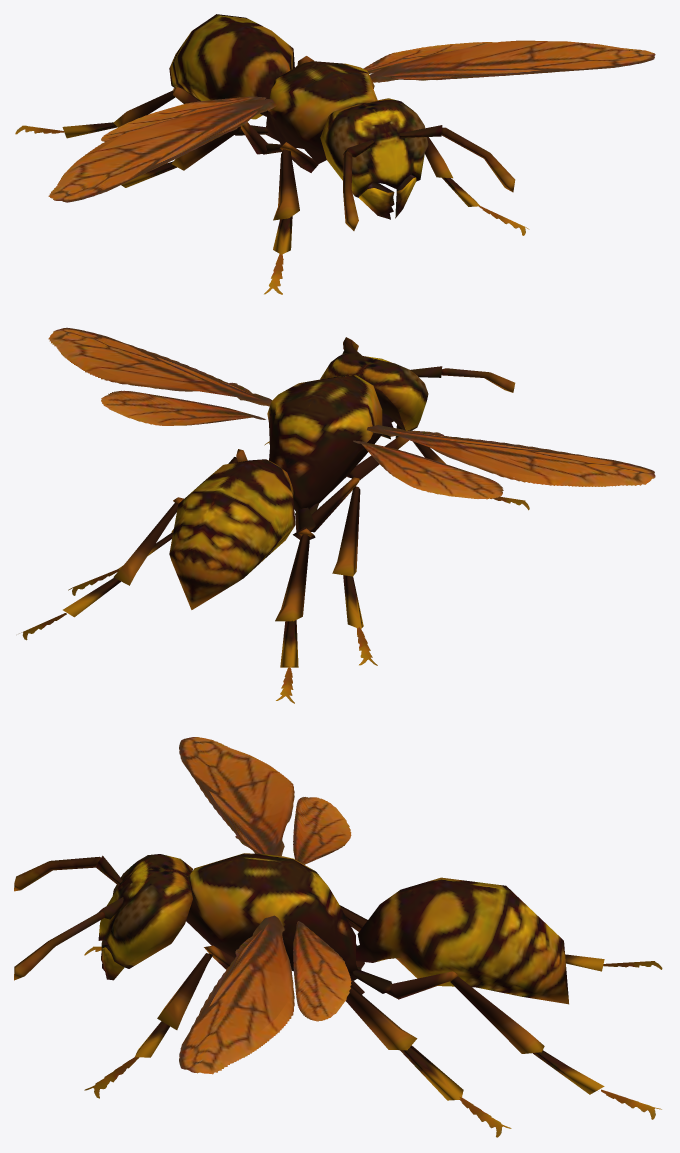
The model's file is wasp.glb.
3 renders of one model, top to bottom at view 1: azimuth 30°, elevation 25°; view 2: azimuth 150°, elevation 25°; view 3: azimuth 270°, elevation 25°, orthographic. The views are drawn at different scales.
Size of the model in its own units: 3.98 by 1.02 by 3.14.
2 materials, 2 textured.
